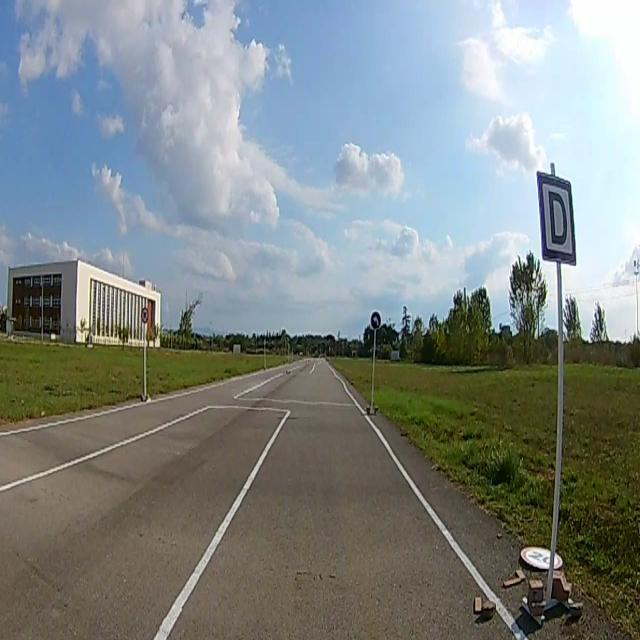durak: (537, 174, 577, 264)
